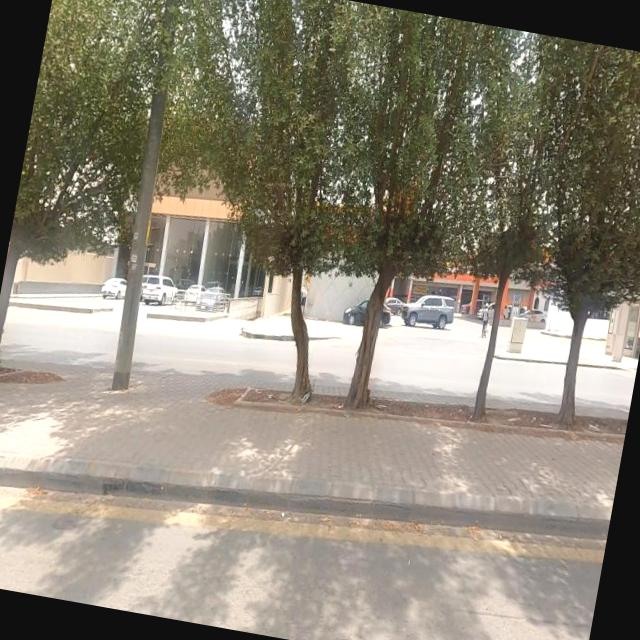debris: (276, 356, 327, 440)
